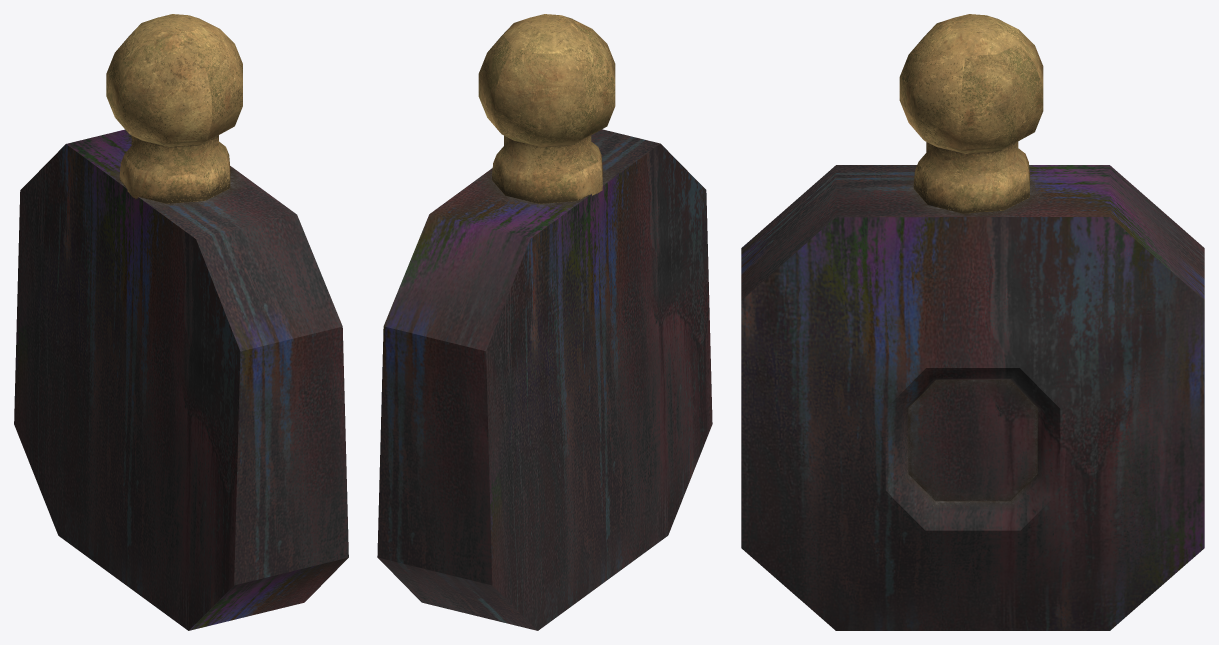
The model's file is perfume bottle_lp.FBX.
3 renders of one model, left to right at view 1: azimuth 30°, elevation 25°; view 2: azimuth 150°, elevation 25°; view 3: azimuth 270°, elevation 25°, orthographic. The views are drawn at different scales.
Visible parts, largest first — view 1: perfume bottle_lp001; view 2: perfume bottle_lp001; view 3: perfume bottle_lp001.
Boxes of the visible parts, <box> form: perfume bottle_lp001: <box>14,14,348,630</box>; perfume bottle_lp001: <box>377,14,712,630</box>; perfume bottle_lp001: <box>741,14,1204,630</box>.
Bounding box in the file's own units: 13.74 × 43.43 × 31.75.
Materials: 1 (1 with a texture image).
